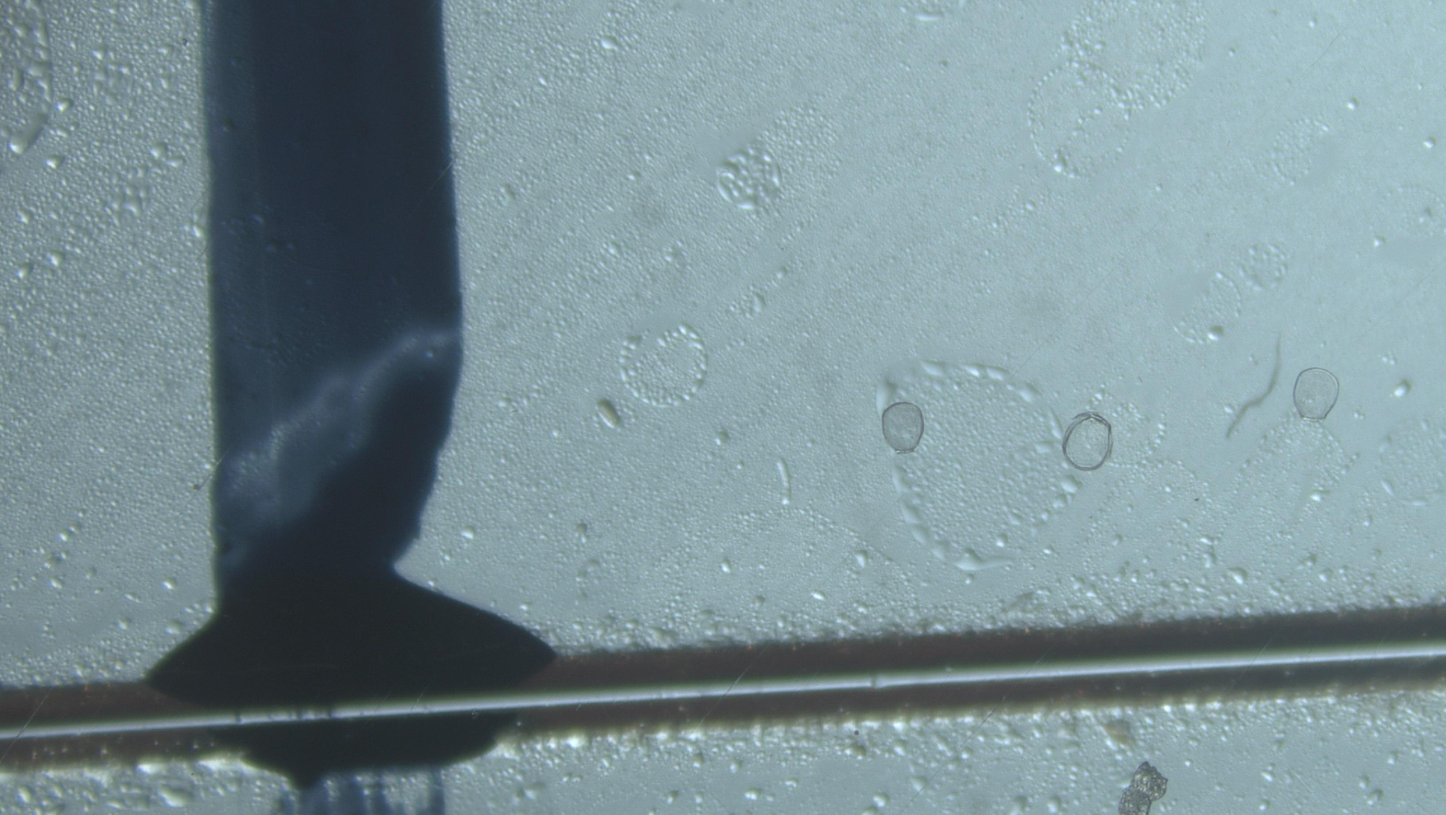dead: (1063, 412, 1113, 471), (1294, 368, 1339, 421), (882, 402, 924, 453)
